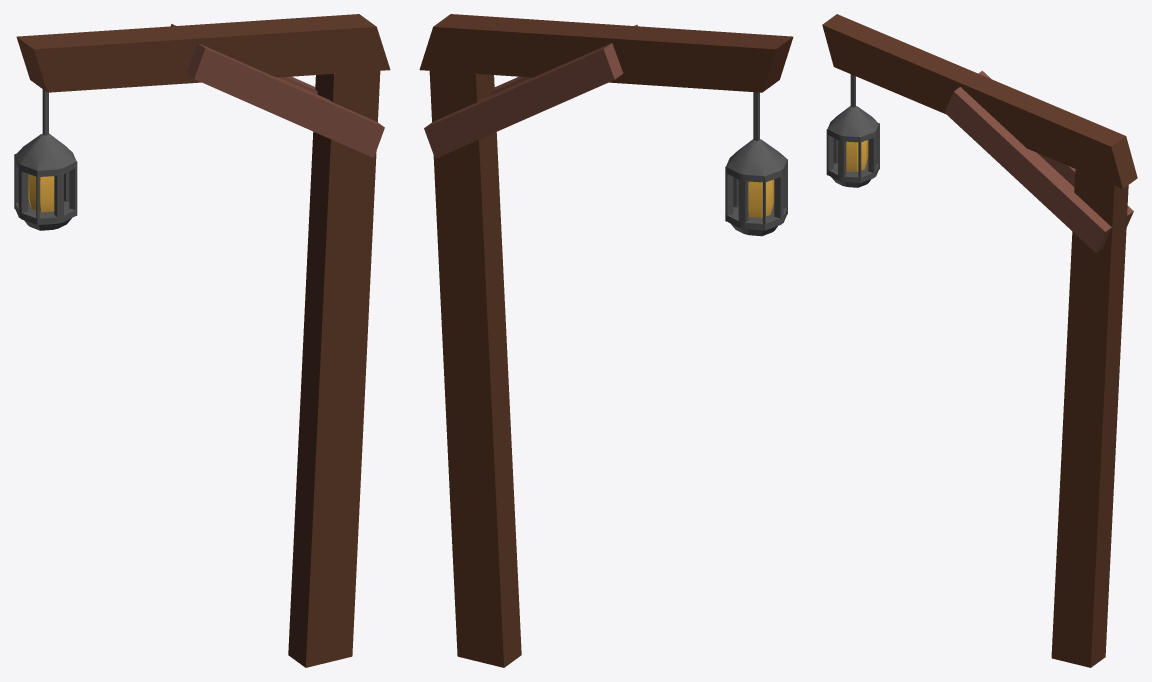
Rendered from Mesh_lamp_post.fbx.
3 renders of one model, left to right at view 1: azimuth 30°, elevation 25°; view 2: azimuth 150°, elevation 25°; view 3: azimuth 330°, elevation 25°, orthographic. The views are drawn at different scales.
Parts seen in each view (by area): view 1: lamp_post; view 2: lamp_post; view 3: lamp_post.
Boxes of the visible parts, bbox=[...] form: lamp_post: bbox=[14, 14, 390, 667]; lamp_post: bbox=[419, 14, 793, 667]; lamp_post: bbox=[822, 14, 1137, 667].
Size of the model in its own units: 267 by 489 by 45.12.
Materials: 1 (1 with a texture image).
